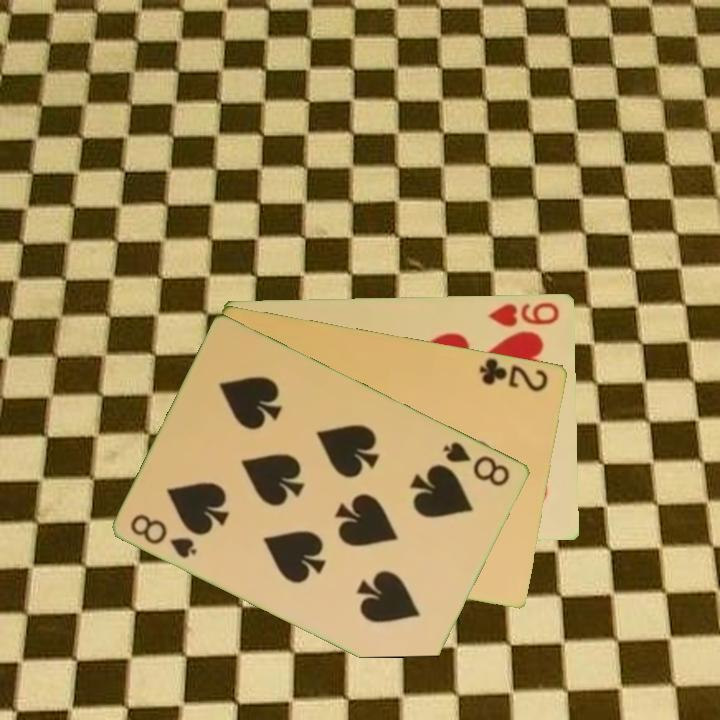2c: (476, 354, 552, 394)
8s: (440, 438, 514, 489), (127, 510, 201, 561)
9h: (484, 299, 562, 329)
